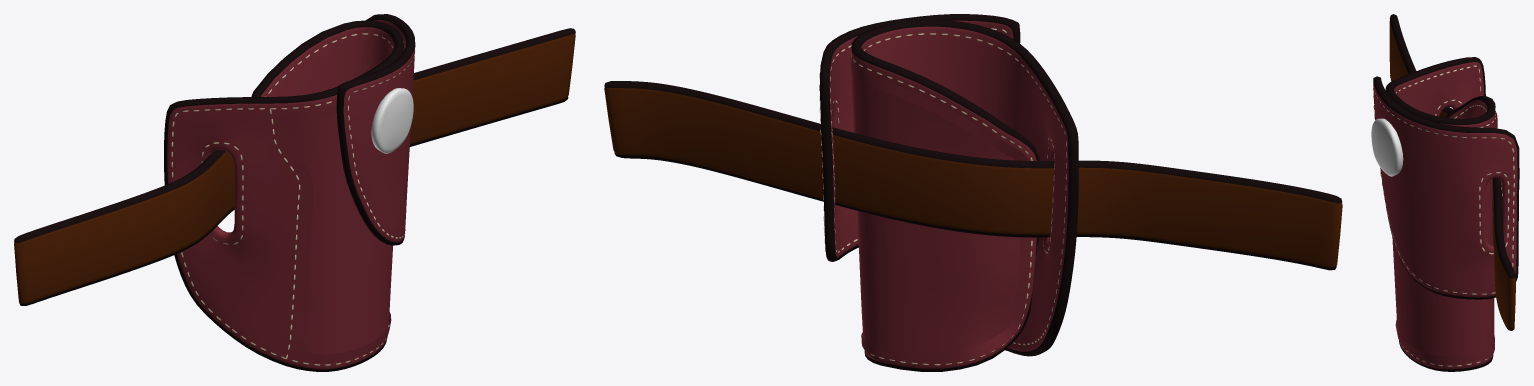
File: Holster3.glb
The picture shows the model from 3 angles, left to right: view 1: azimuth 30°, elevation 25°; view 2: azimuth 150°, elevation 25°; view 3: azimuth 270°, elevation 25°; orthographic projection. The views are drawn at different scales.
Visible parts, largest first — view 1: Main, Belt, Main_Pattern, Top, Main_Border.001, Main.001, Belt.001, Top.001, Concho, Stitch.001; view 2: Belt, Main_Pattern, Main, Belt.001, Main.001, Main_Border.001, Top.001, Top; view 3: Top, Main_Pattern, Main, Main.001, Belt, Top.001, Belt.001, Concho, Main_Border.001, Stitch.002, Stitch.005, Stitch.
Part boxes in pixels (x1,y1,x2,y2): Main: [167, 27, 403, 369]; Belt: [14, 33, 575, 303]; Main_Pattern: [286, 114, 392, 354]; Top: [343, 20, 414, 242]; Main_Border.001: [274, 104, 391, 363]; Main.001: [164, 20, 403, 371]; Belt.001: [14, 28, 575, 305]; Top.001: [336, 14, 415, 245]; Concho: [371, 88, 413, 153]; Stitch.001: [171, 49, 403, 365]; Belt: [604, 87, 1342, 267]; Main_Pattern: [851, 56, 1025, 353]; Main: [852, 26, 1068, 368]; Belt.001: [604, 81, 1342, 270]; Main.001: [851, 20, 1078, 371]; Main_Border.001: [850, 55, 1031, 363]; Top.001: [819, 14, 1020, 261]; Top: [820, 20, 1013, 257]; Top: [1373, 84, 1517, 297]; Main_Pattern: [1392, 114, 1496, 356]; Main: [1394, 62, 1495, 369]; Main.001: [1385, 57, 1495, 371]; Belt: [1389, 21, 1515, 329]; Top.001: [1373, 76, 1519, 299]; Belt.001: [1389, 14, 1516, 330]; Concho: [1371, 118, 1403, 176]; Main_Border.001: [1395, 111, 1497, 364]; Stitch.002: [1373, 87, 1514, 294]; Stitch.005: [1479, 172, 1509, 254]; Stitch: [1396, 65, 1486, 118].
Size of the model in its own units: 6.42 by 2.92 by 1.49.
